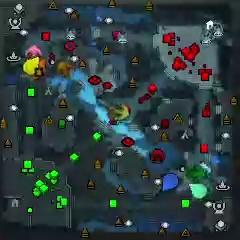p1: (162, 172, 179, 192)
p2: (188, 182, 207, 199)
p4: (23, 57, 39, 76)
p5: (39, 58, 47, 75)
x1: (24, 44, 43, 57)
x2: (115, 105, 129, 120)
x3: (200, 160, 212, 174)
x4: (187, 166, 205, 181)
x5: (56, 61, 75, 79)
